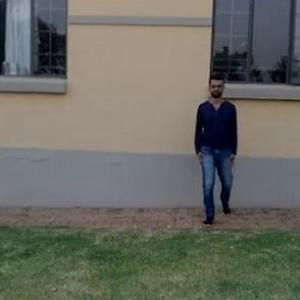follow: (195, 70, 240, 222)
